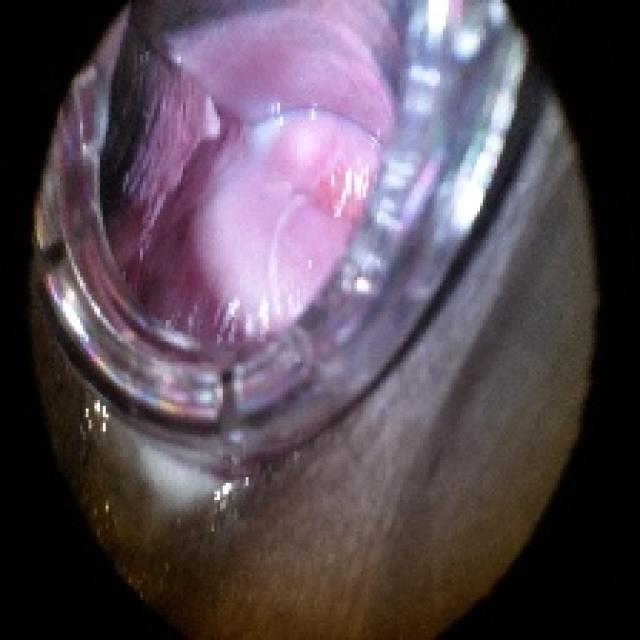type-2: (36, 0, 459, 417)
